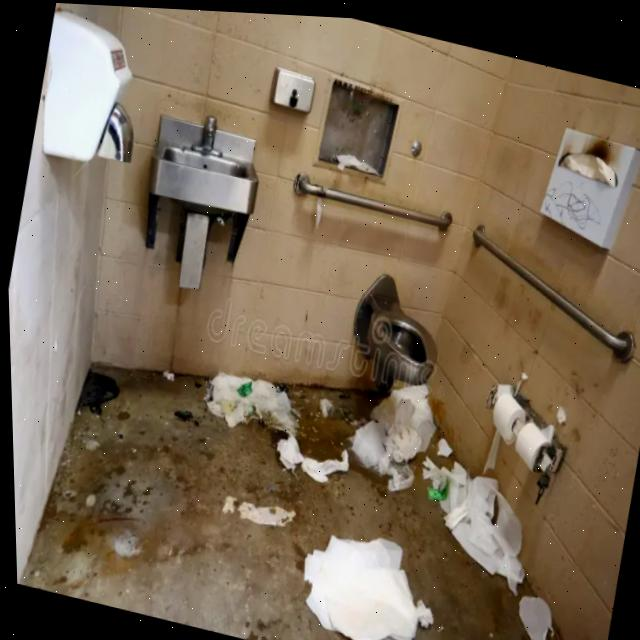dirty_area: (10, 343, 209, 622), (469, 303, 629, 427), (164, 512, 301, 640)
garbage: (279, 510, 458, 640), (310, 363, 455, 475), (438, 454, 549, 569), (192, 355, 301, 441), (262, 431, 364, 498), (204, 473, 304, 540), (494, 573, 579, 640), (327, 139, 391, 186)
